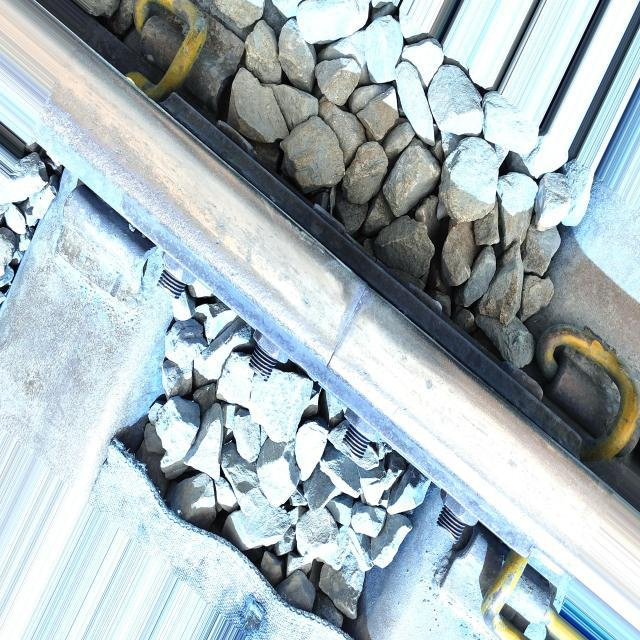Good Fasteners: (537, 324, 640, 462), (123, 0, 244, 115), (481, 550, 587, 640)
Good Joint: (36, 35, 640, 620)
